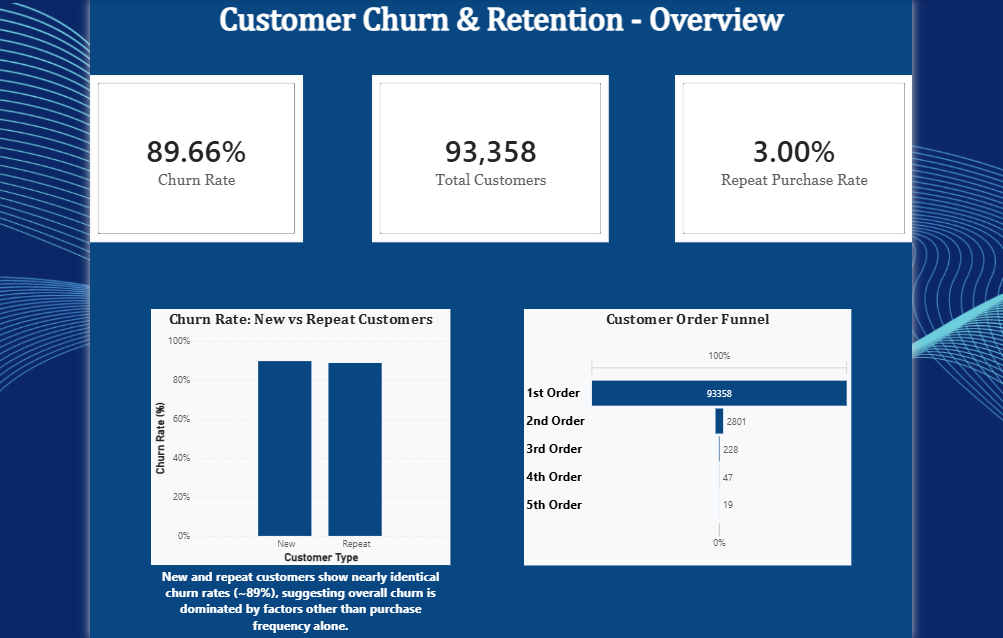

This screenshot's page, from the dashboard's own definition file:
{"tool":"powerbi","page":{"name":"Overview","canvas":[1800,1400],"ordinal":0},"visuals":[{"type":"cardVisual","fields":{"Data":["customer_recency.Total Customers Label"]},"box":[615.9,165.9,518.2,365.9],"z":0},{"type":"cardVisual","fields":{"Data":["Avg(customer_recency.churned)"]},"box":[0,165.9,465.9,365.9],"z":1000},{"type":"cardVisual","fields":{"Data":["customer_recency.Repeat Purchase Rate"]},"box":[1279.5,165.9,520.5,365.9],"z":2000},{"type":"funnel","title":"Customer Order Funnel","fields":{"Category":["funnel.stage"],"Y":["Sum(funnel.customers)"]},"box":[950,677.3,715.9,561.4],"z":3000},{"type":"clusteredColumnChart","title":"Churn Rate: New vs Repeat Customers","fields":{"Category":["customer_recency.customer_type"],"Y":["Avg(customer_recency.churned)"]},"box":[134.1,677.3,654.5,561.4],"z":4000},{"type":"textbox","box":[0,0,1800,97.7],"z":5000},{"type":"textbox","box":[134.1,1238.6,654.5,161.4],"z":6000}]}

Visuals, with their boxes on the page's 1800x1400 design canvas (x1, y1, x2, y2). These are canvas units, not pixel positions in the 1003x638 screenshot, which may show the page scaled, cropped or inside an application window:
cardVisual - customer_recency.Total Customers Label: detection(616, 166, 1134, 532)
cardVisual - Avg(customer_recency.churned): detection(0, 166, 466, 532)
cardVisual - customer_recency.Repeat Purchase Rate: detection(1280, 166, 1800, 532)
"Customer Order Funnel" funnel: detection(950, 677, 1666, 1239)
"Churn Rate: New vs Repeat Customers" clusteredColumnChart: detection(134, 677, 789, 1239)
textbox: detection(0, 0, 1800, 98)
textbox: detection(134, 1239, 789, 1400)
